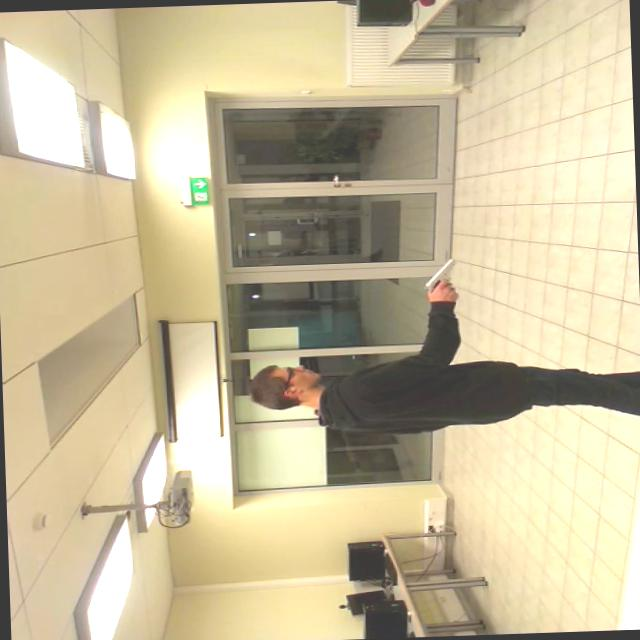handgun: (408, 250, 469, 298)
